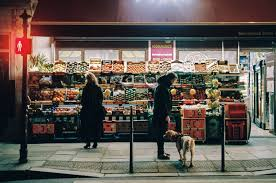Good: (77, 71, 182, 127)
